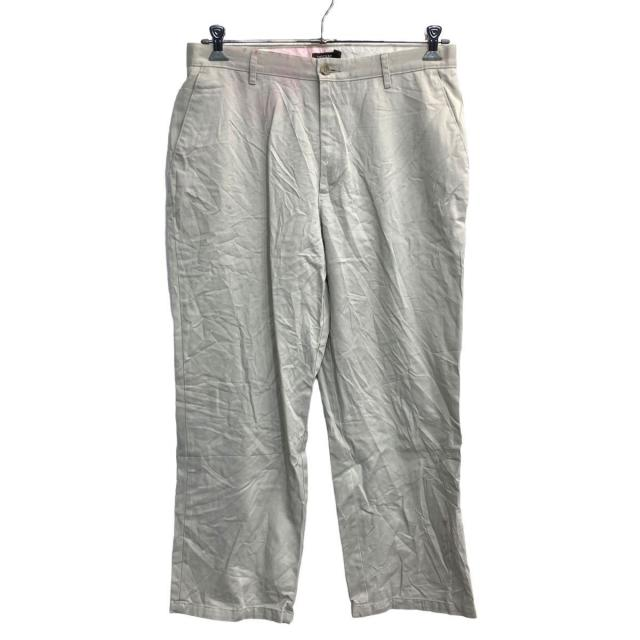long-pants: (164, 39, 482, 624)
